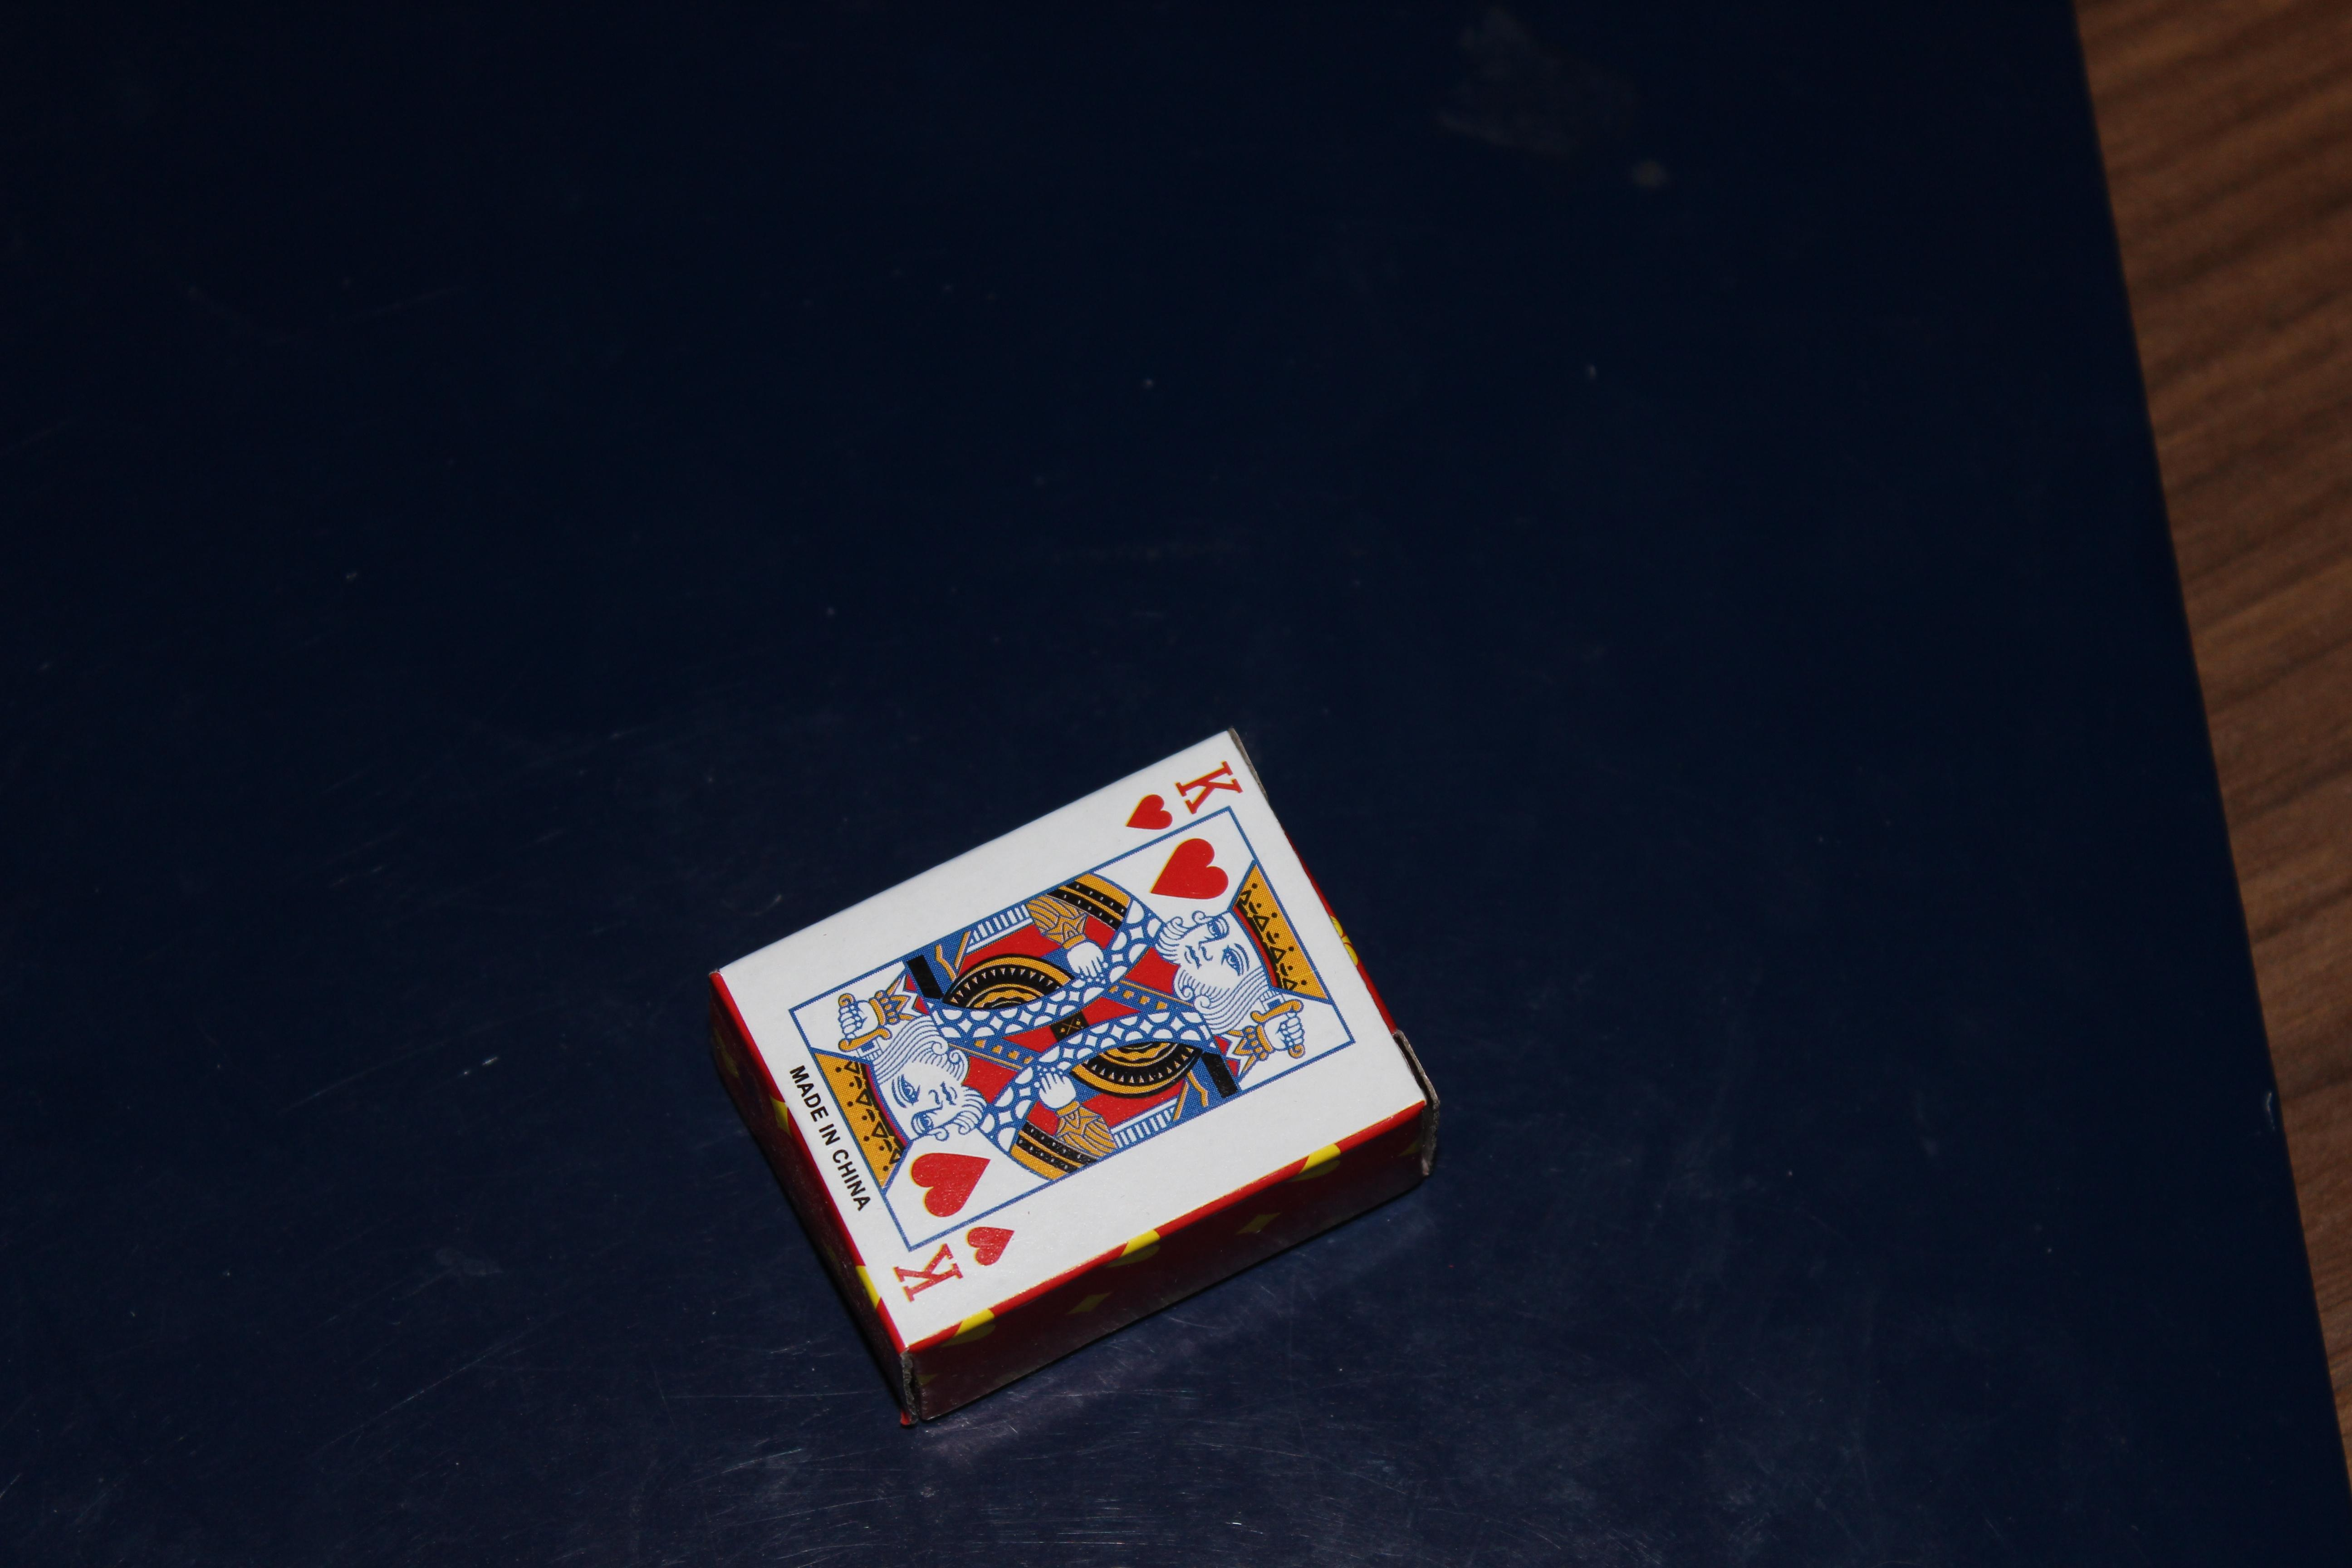miniCards: (655, 705, 1482, 1433)
